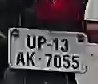0: (53, 53, 61, 68)
1: (52, 37, 59, 52)
3: (60, 38, 70, 54)
5: (71, 53, 79, 71), (62, 55, 71, 70)
7: (44, 52, 52, 69)
A: (15, 50, 26, 68)
K: (26, 50, 37, 69)
P: (37, 34, 46, 52)
U: (25, 34, 35, 51)
